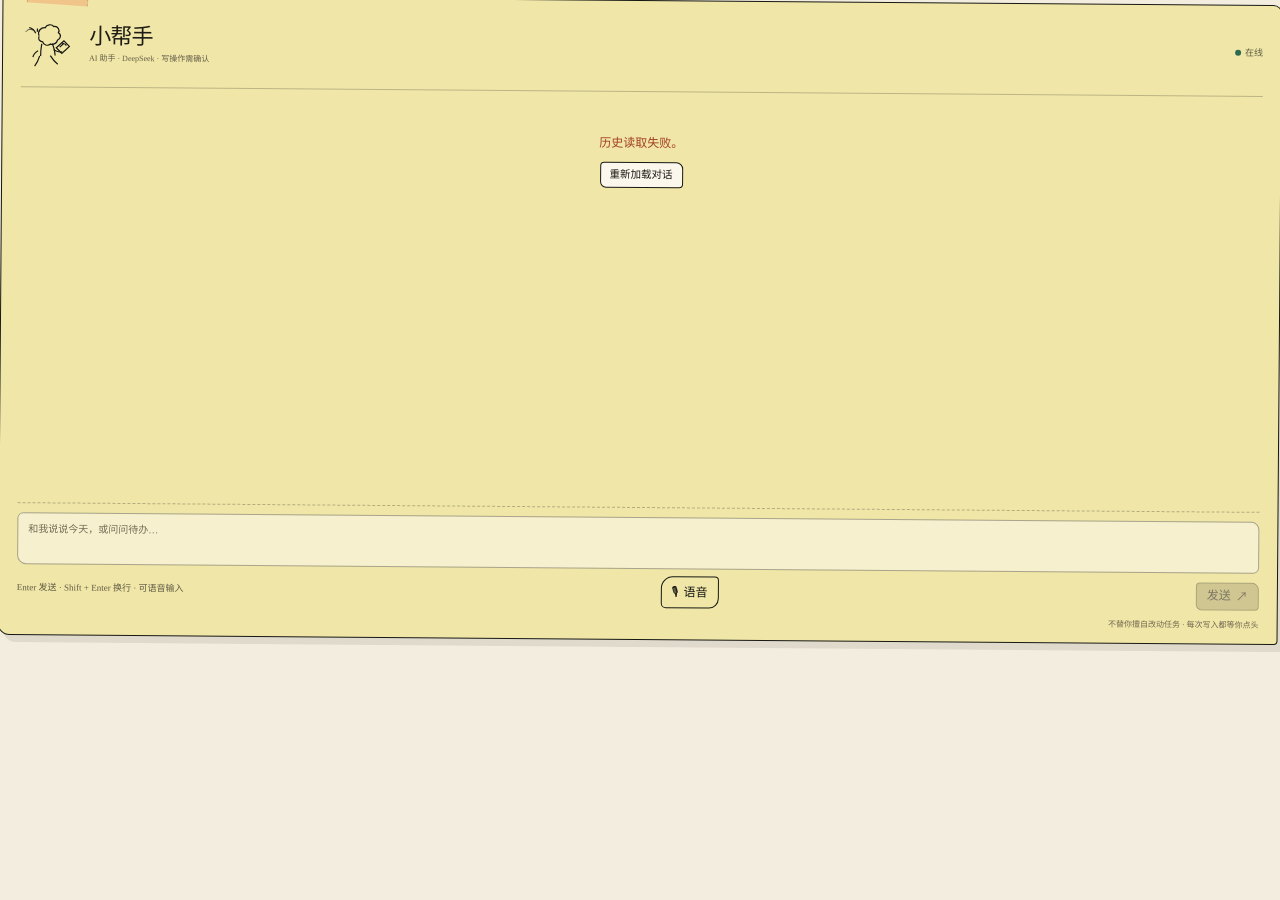
Test case: AssistantPanel › retries a failed history load
The width and height of the screenshot is (1280, 900).
Expected: the text "历史读取失败。" is shown, [599,134,684,154]
Click the button "重新加载对话": {"x": 641, "y": 175} [600,162,683,188]
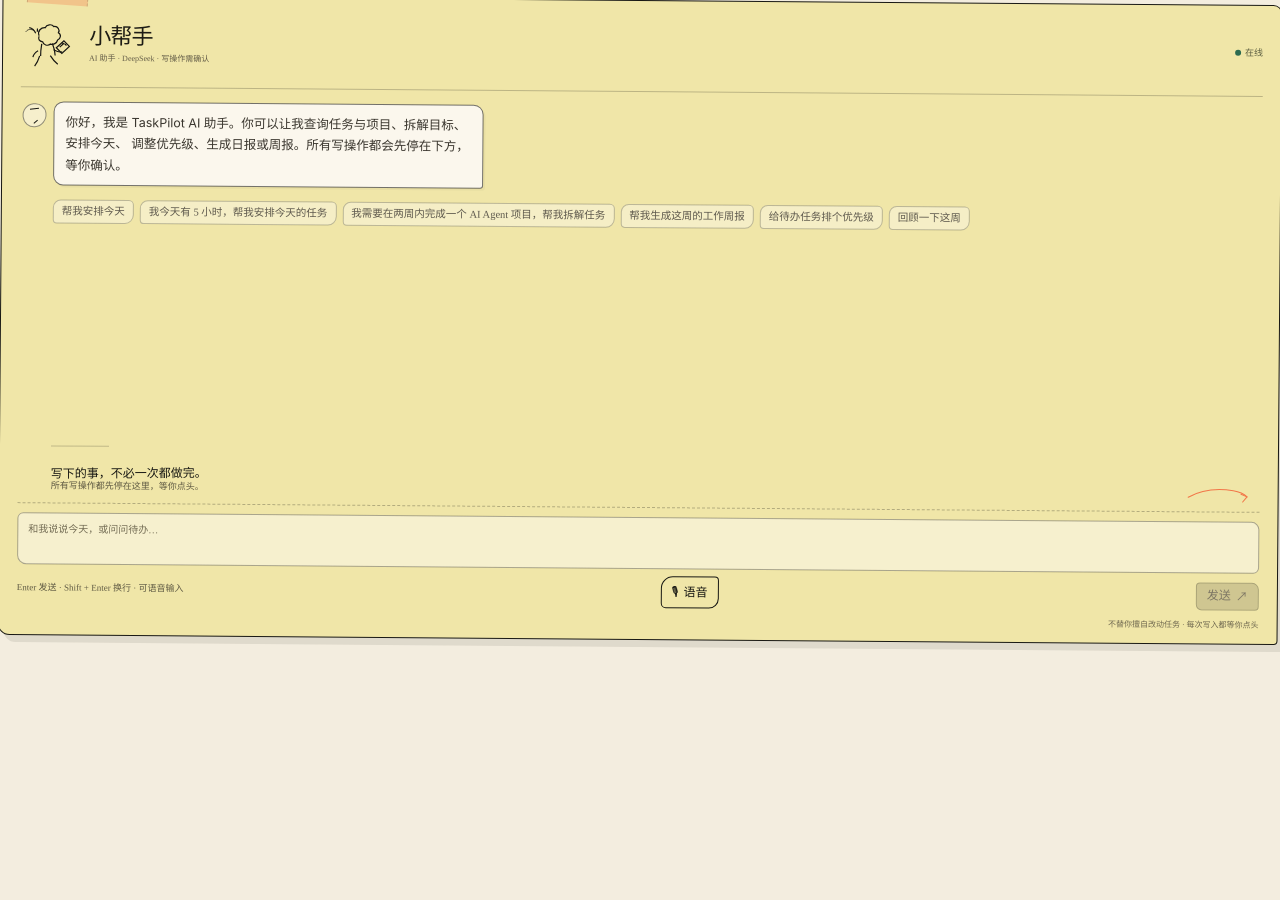
Result: the button "帮我安排今天" is shown at [53,199,134,224]
